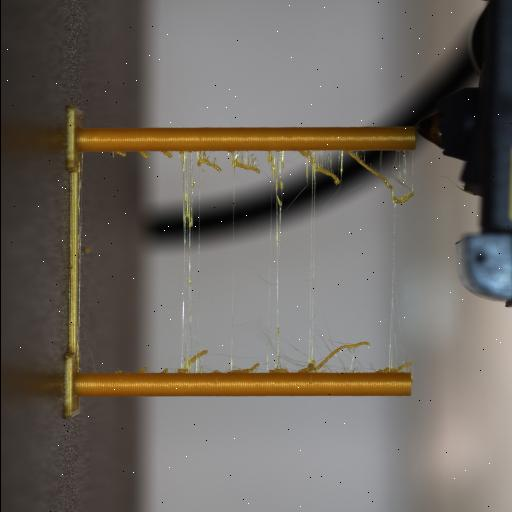stringing: (344, 150, 414, 202), (300, 333, 368, 371), (390, 146, 406, 296), (296, 150, 340, 184), (278, 174, 310, 218), (181, 150, 195, 242), (230, 151, 262, 175), (180, 350, 207, 372), (80, 336, 96, 370), (196, 152, 222, 172), (265, 151, 281, 177), (378, 361, 412, 373), (391, 188, 414, 204), (228, 363, 260, 373), (391, 174, 409, 190), (110, 367, 149, 374), (249, 154, 261, 172), (297, 150, 311, 158), (136, 150, 148, 158), (160, 150, 172, 158), (114, 151, 126, 157), (136, 367, 146, 373), (180, 152, 185, 164), (160, 368, 168, 374)
